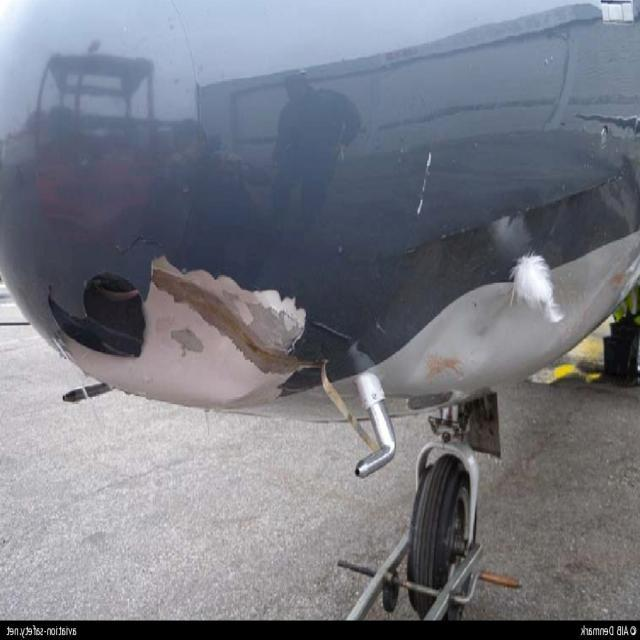crack: (115, 228, 168, 263)
dent: (150, 289, 272, 407), (402, 292, 516, 387)
